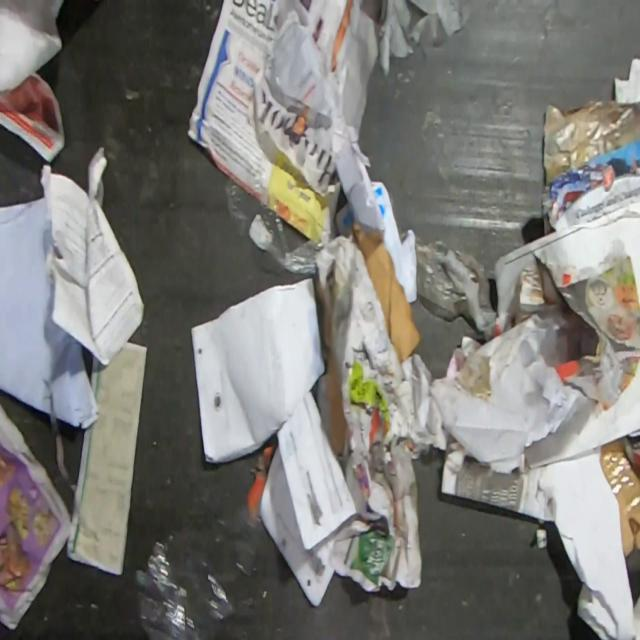cardboard: (350, 221, 424, 363), (599, 435, 640, 559)
soft_plastic: (134, 503, 277, 639), (222, 167, 337, 276), (414, 235, 499, 340)
